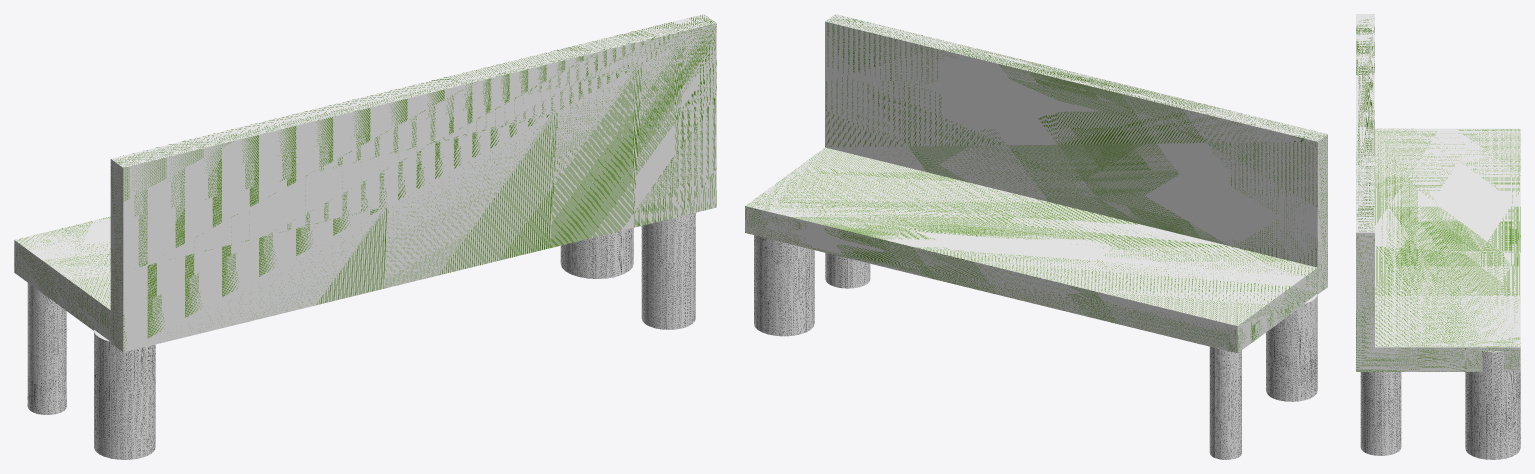
3 renders of one model, left to right at view 1: azimuth 30°, elevation 25°; view 2: azimuth 150°, elevation 25°; view 3: azimuth 270°, elevation 25°, orthographic. The views are drawn at different scales.
Parts seen in each view (by area): view 1: mesh1_mesh1-geometry, mesh2_mesh2-geometry, mesh3_mesh3-geometry; view 2: mesh1_mesh1-geometry, mesh2_mesh2-geometry, mesh3_mesh3-geometry; view 3: mesh1_mesh1-geometry, mesh3_mesh3-geometry.
Part boxes in pixels (box(x1,y1,x2,y2)): mesh1_mesh1-geometry: box(14, 14, 716, 414); mesh2_mesh2-geometry: box(94, 330, 155, 459); mesh3_mesh3-geometry: box(641, 213, 695, 329); mesh1_mesh1-geometry: box(745, 14, 1327, 459); mesh2_mesh2-geometry: box(1266, 294, 1317, 401); mesh3_mesh3-geometry: box(825, 253, 870, 288); mesh1_mesh1-geometry: box(1356, 14, 1520, 459); mesh3_mesh3-geometry: box(1360, 372, 1401, 455).
Bounding box in the file's own units: 0.8593 × 0.434 × 0.2705.
